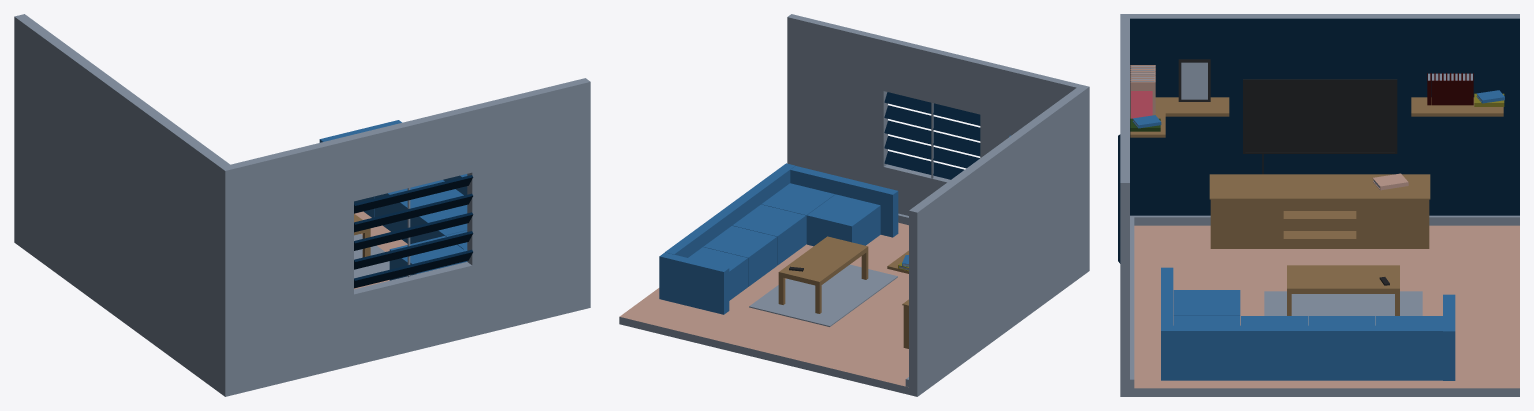
File: room1.glb
3 renders of one model, left to right at view 1: azimuth 30°, elevation 25°; view 2: azimuth 150°, elevation 25°; view 3: azimuth 270°, elevation 25°, orthographic. The views are drawn at different scales.
Parts seen in each view (by area): view 1: walls, curtains, inside, inside.001, rug; view 2: walls, inside, curtains, rug, side, table, inside.001, back, side.001; view 3: walls, closet, back, tv, rug, table, plintusas, inside, inside.001, shelf, book, picture (+7 smaller).
Boxes of the visible parts, x1,y1,x2,y2 form: walls: (14, 14, 590, 396); curtains: (354, 175, 473, 288); inside: (354, 180, 467, 249); inside.001: (389, 236, 462, 280); rug: (354, 234, 389, 278); walls: (619, 14, 1089, 396); inside: (688, 183, 834, 300); curtains: (884, 92, 980, 179); rug: (749, 264, 897, 326); side: (659, 252, 729, 314); table: (778, 236, 868, 313); inside.001: (807, 194, 880, 246); back: (665, 163, 795, 257); side.001: (790, 166, 898, 237); walls: (1120, 14, 1519, 396); closet: (1209, 174, 1430, 248); back: (1161, 325, 1442, 380); tv: (1243, 79, 1397, 153); rug: (1264, 291, 1422, 325); table: (1287, 265, 1399, 315); plintusas: (1129, 215, 1519, 388); inside: (1173, 316, 1442, 325); inside.001: (1173, 290, 1240, 315); shelf: (1130, 97, 1229, 137); book: (1427, 73, 1473, 105); picture: (1178, 59, 1210, 101).
Bounding box in the file's own units: 14.6 × 8.62 × 14.66.
